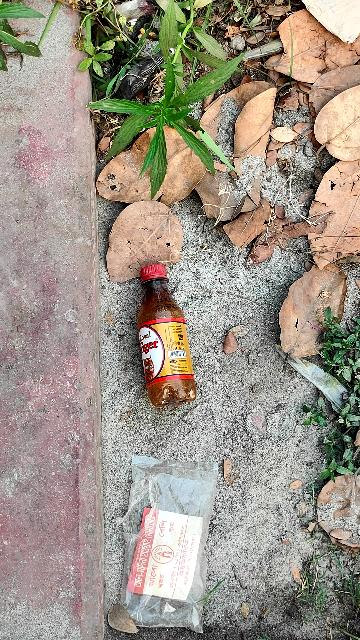bottle: (127, 262, 211, 412)
